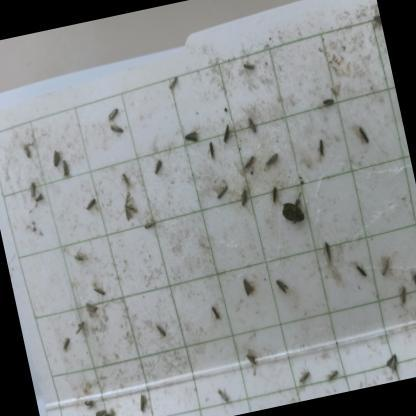prays_oleae: (113, 186, 144, 228), (374, 342, 406, 380), (315, 226, 341, 270), (269, 270, 297, 303), (292, 359, 317, 395), (374, 250, 398, 284), (236, 270, 260, 303), (212, 378, 236, 410), (66, 312, 93, 340), (320, 358, 344, 388), (89, 275, 116, 301), (80, 294, 103, 324), (258, 140, 281, 170), (208, 176, 233, 202), (351, 254, 371, 286), (204, 299, 226, 328), (242, 344, 264, 373), (67, 245, 92, 270), (136, 210, 160, 236), (232, 184, 252, 215), (312, 128, 328, 166), (217, 119, 236, 149), (393, 280, 412, 310), (48, 142, 68, 169), (264, 183, 283, 210), (23, 176, 40, 206), (110, 165, 133, 187), (352, 127, 374, 150), (58, 328, 76, 356), (152, 316, 171, 342), (238, 151, 258, 175), (244, 110, 262, 136), (183, 130, 204, 152), (56, 160, 76, 183), (80, 194, 103, 214), (132, 390, 149, 416), (203, 137, 219, 164), (320, 92, 340, 113), (99, 102, 122, 120), (407, 257, 416, 302), (152, 155, 168, 180), (107, 122, 128, 140), (242, 55, 260, 75), (34, 186, 48, 210), (368, 9, 382, 31), (165, 78, 184, 94), (20, 144, 38, 160), (101, 403, 120, 416), (80, 398, 98, 410), (95, 403, 109, 416)
